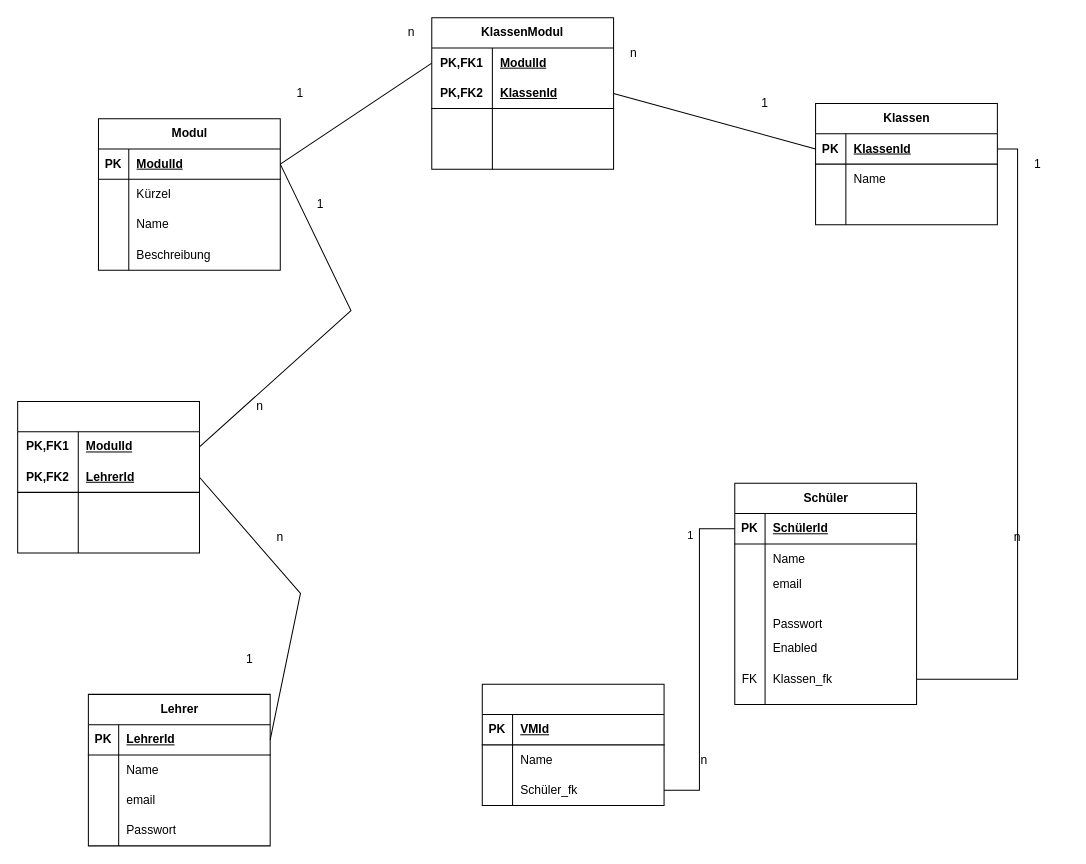
The diagram is 1086 pixels wide and 864 high, and some of its shapes have lost their labels. The shapes that lost their labels are listed below. From the top down, each one's box as (x1, y1, x2, y2) in pixels, then its label:
(17, 400, 199, 553): LehrerModul
(481, 683, 664, 805): VM
